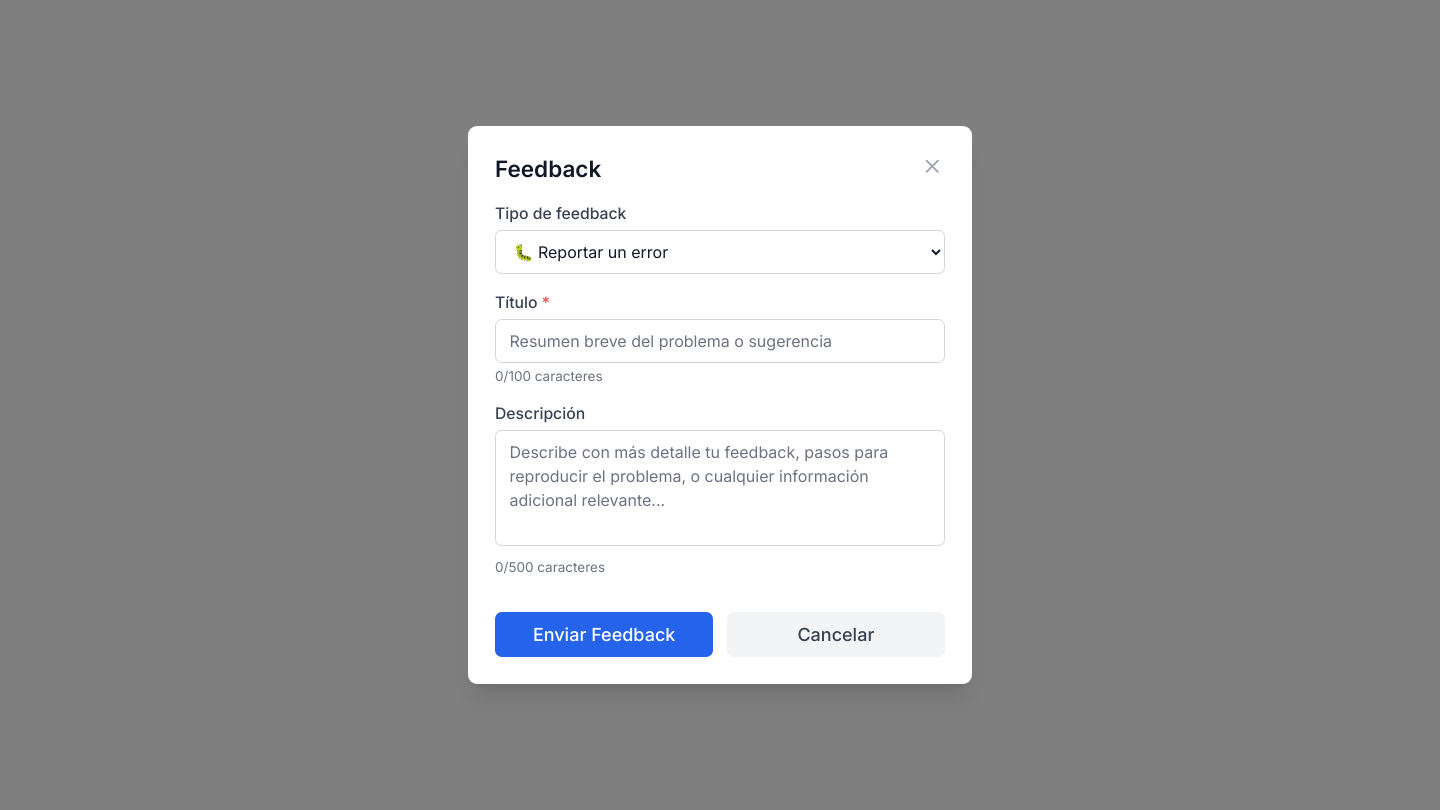
Test: FeedbackModal Integration Tests › Auto-close behavior › should not auto-close modal on error
The image size is (1440, 810).
expect the button "Enviar Feedback" is shown: met, box [495,612,713,657]
Type "Test Title" into the field labelled "Título *" at (720, 341), box [495,319,945,363]
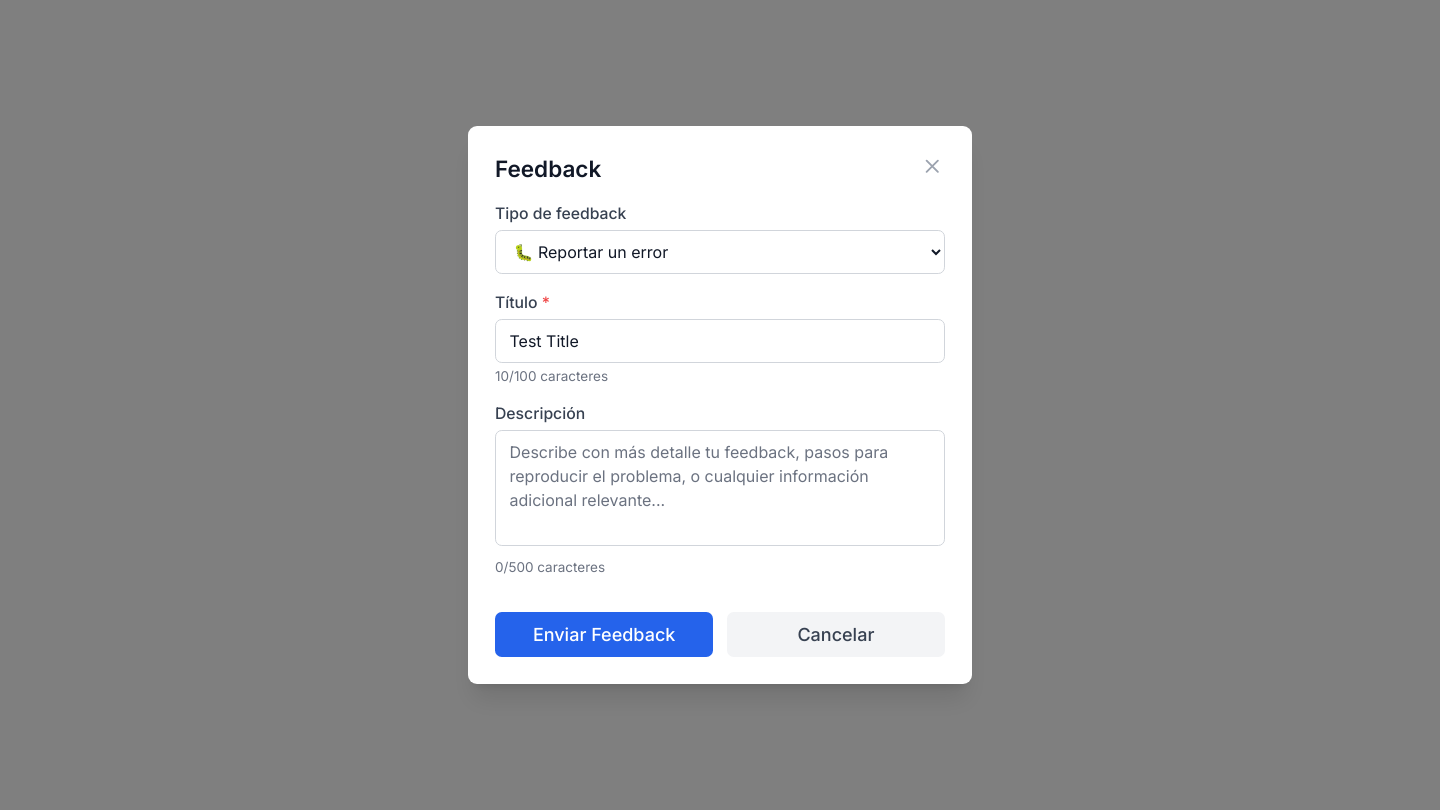
Replace the text in the text box labelled "Descripción" with "Test description" at (720, 488), box [495,430,945,546]
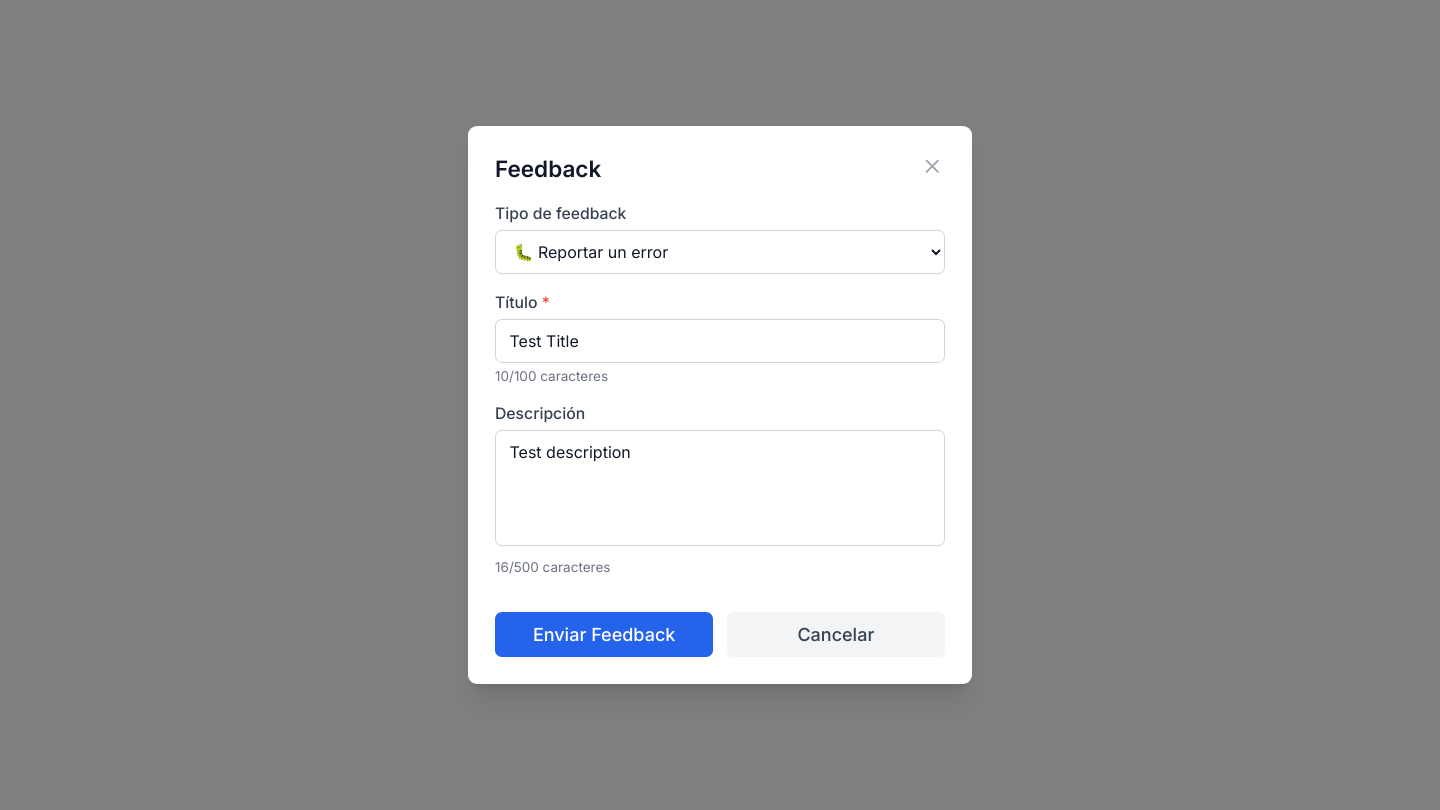
Click the button "Enviar Feedback" at (604, 634), box [495,612,713,657]
Wait 3000 ms
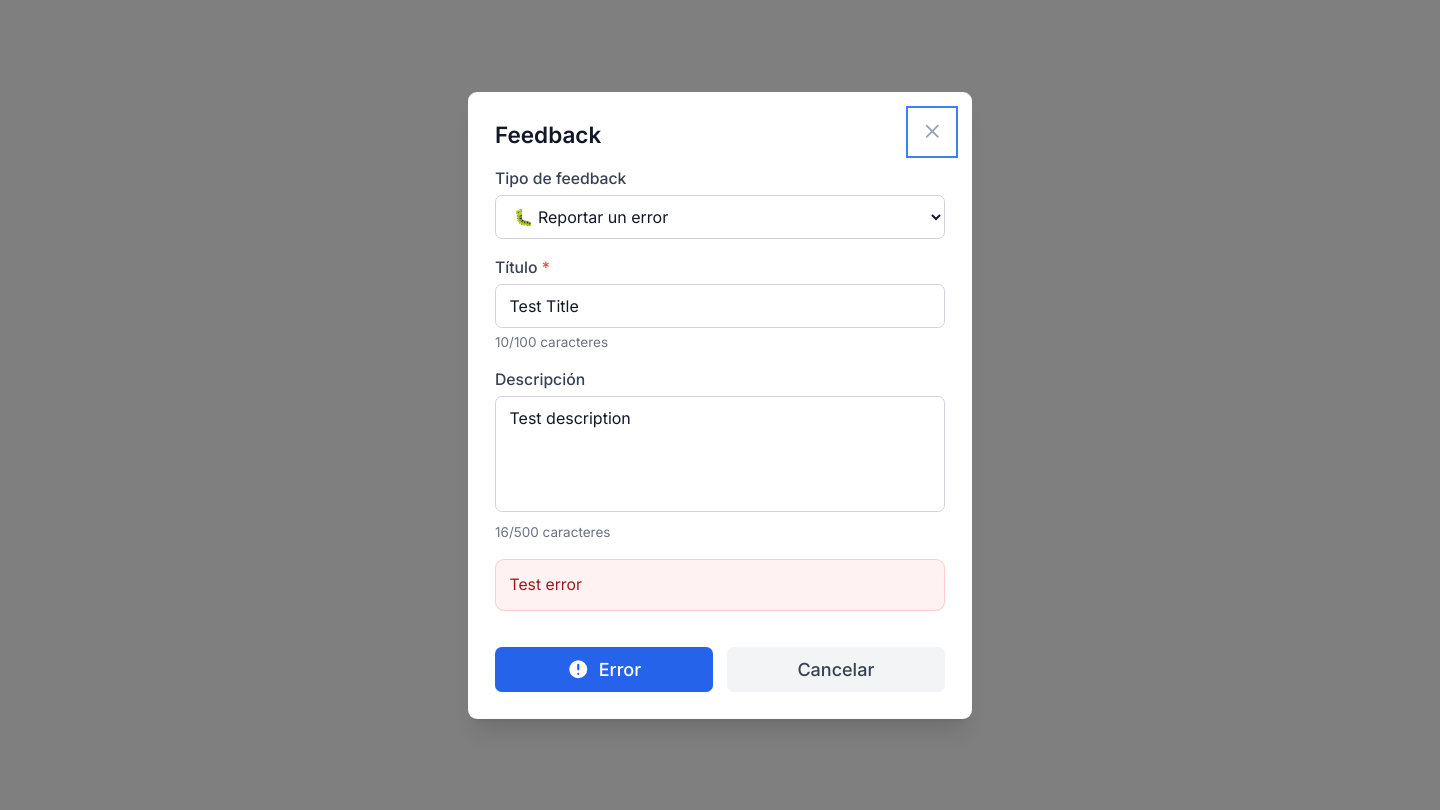
expect the text "Test error" is shown: met, box [495,559,945,610]
